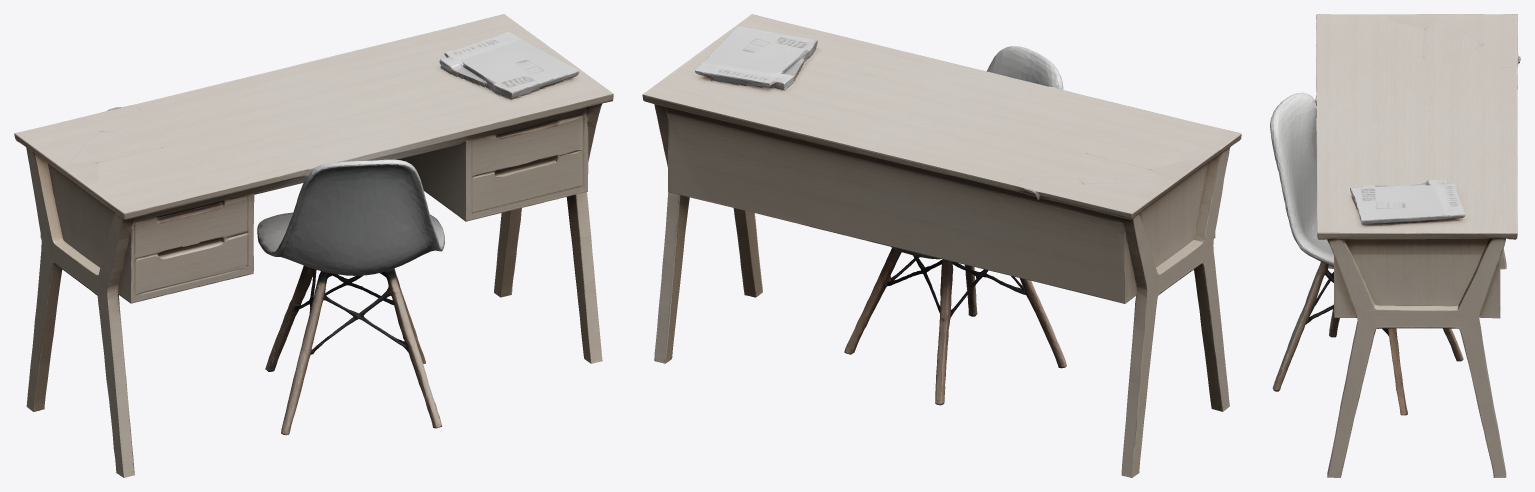
Rendered from ori.glb.
The picture shows the model from 3 angles, left to right: view 1: azimuth 30°, elevation 25°; view 2: azimuth 150°, elevation 25°; view 3: azimuth 270°, elevation 25°; orthographic projection. The views are drawn at different scales.
Visible parts, largest first — view 1: world; view 2: world; view 3: world.
Boxes of the visible parts, left/top/right/bottom form: world: left=14, top=14, right=613, bottom=477; world: left=642, top=14, right=1241, bottom=477; world: left=1270, top=14, right=1520, bottom=477.
Size of the model in its own units: 1 by 0.5511 by 0.4837.
1 material, 1 textured.
